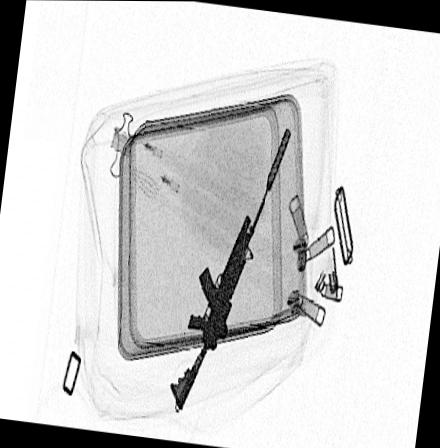Gun: (169, 125, 292, 410)
